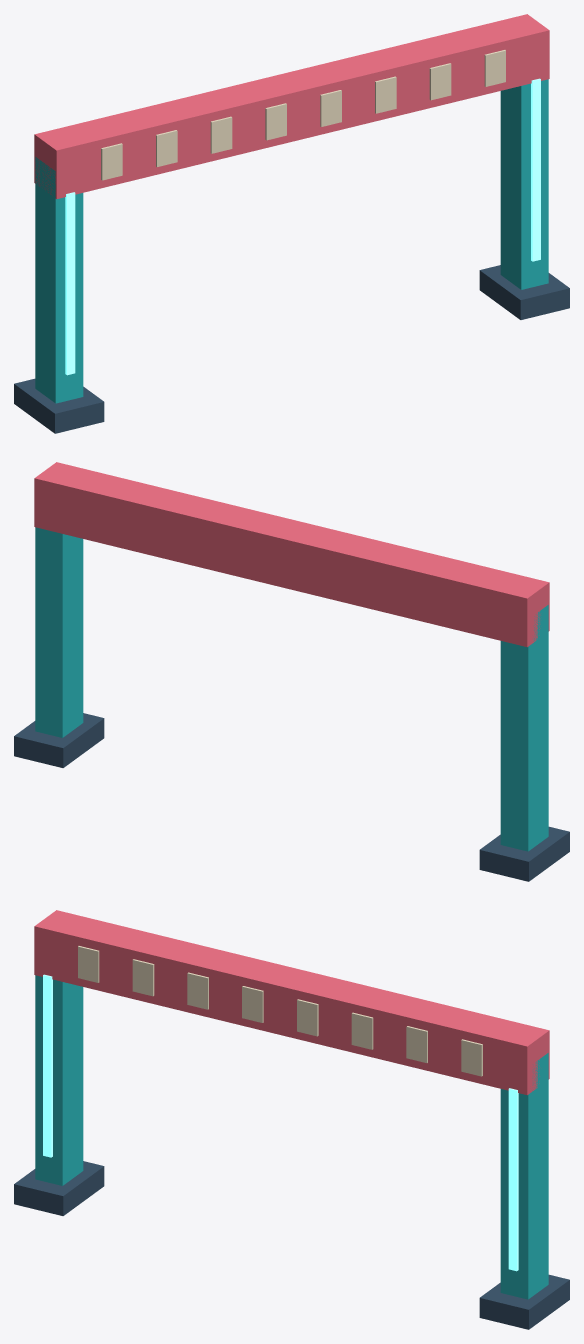
Rendered from portal.glb.
3 views of the same model, one above another, from view 1: azimuth 30°, elevation 25°; view 2: azimuth 150°, elevation 25°; view 3: azimuth 330°, elevation 25° (orthographic).
Visible parts, largest first — view 1: portal_sunset coral, portal_lagoon turquoise, portal_warm ivory, portal_midnight steel, portal_luminous mint; view 2: portal_sunset coral, portal_lagoon turquoise, portal_midnight steel; view 3: portal_sunset coral, portal_lagoon turquoise, portal_warm ivory, portal_midnight steel, portal_luminous mint.
Boxes of the visible parts, box(x1,y1,x2,y2) form: portal_sunset coral: box(34, 14, 549, 199); portal_lagoon turquoise: box(35, 79, 548, 403); portal_warm ivory: box(101, 50, 505, 180); portal_midnight steel: box(14, 265, 569, 433); portal_luminous mint: box(65, 78, 540, 375); portal_sunset coral: box(34, 462, 549, 647); portal_lagoon turquoise: box(35, 527, 548, 851); portal_midnight steel: box(14, 713, 569, 881); portal_sunset coral: box(34, 910, 549, 1095); portal_lagoon turquoise: box(35, 975, 548, 1299); portal_warm ivory: box(78, 946, 482, 1076); portal_midnight steel: box(14, 1161, 569, 1329); portal_luminous mint: box(43, 974, 518, 1271).
Size of the model in its own units: 18.8 by 9.55 by 2.6.
